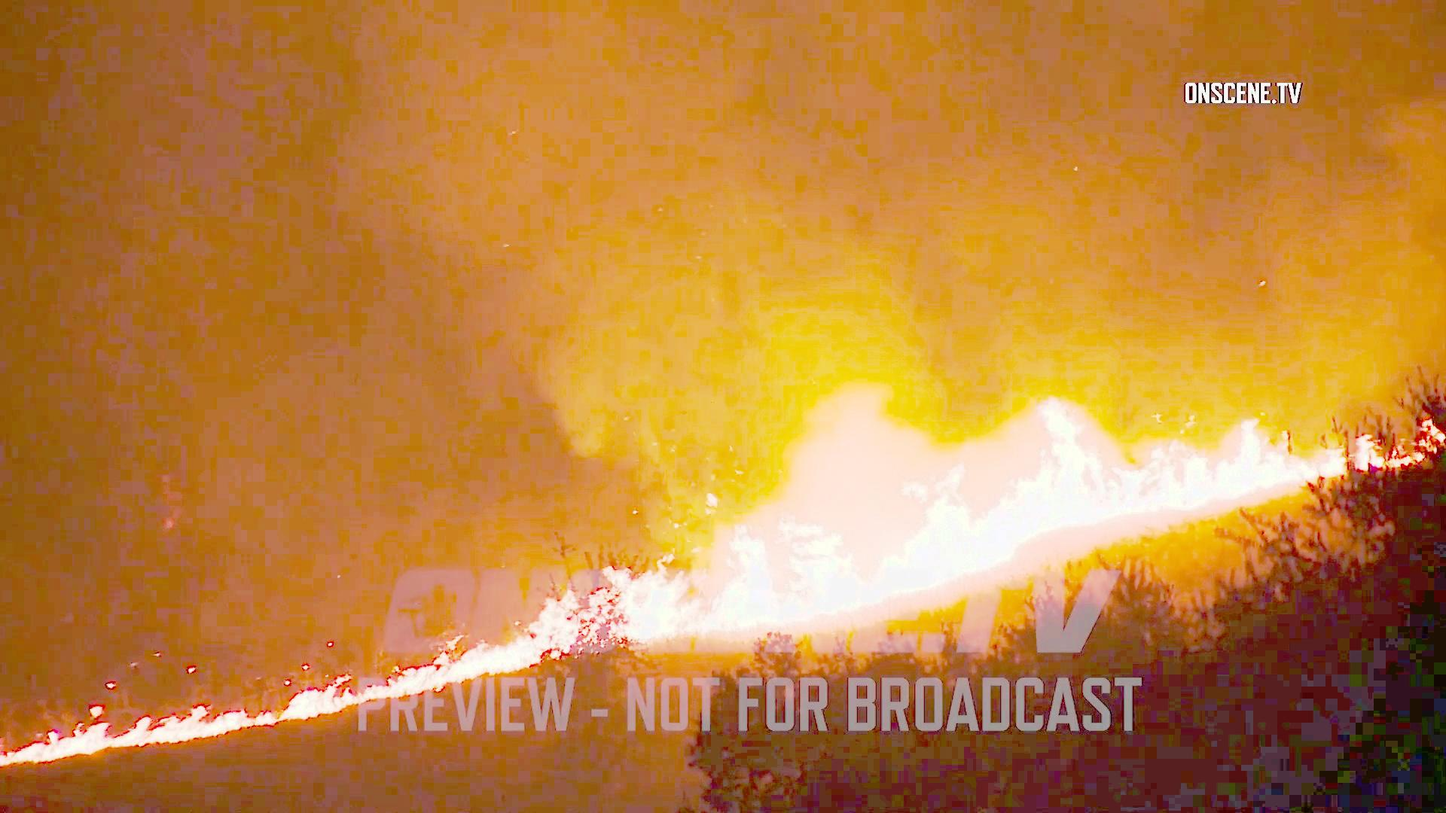fire: (693, 420, 990, 612), (1031, 383, 1301, 518)
smoke: (612, 14, 1028, 452)
